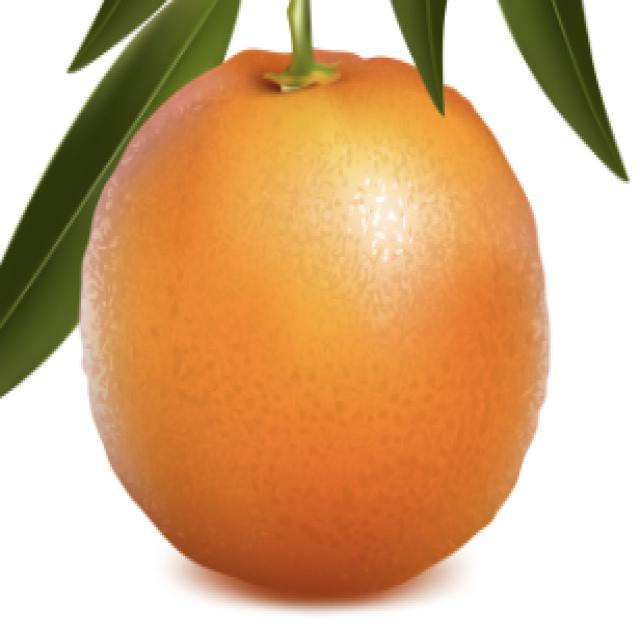Orange: (78, 42, 551, 598)
